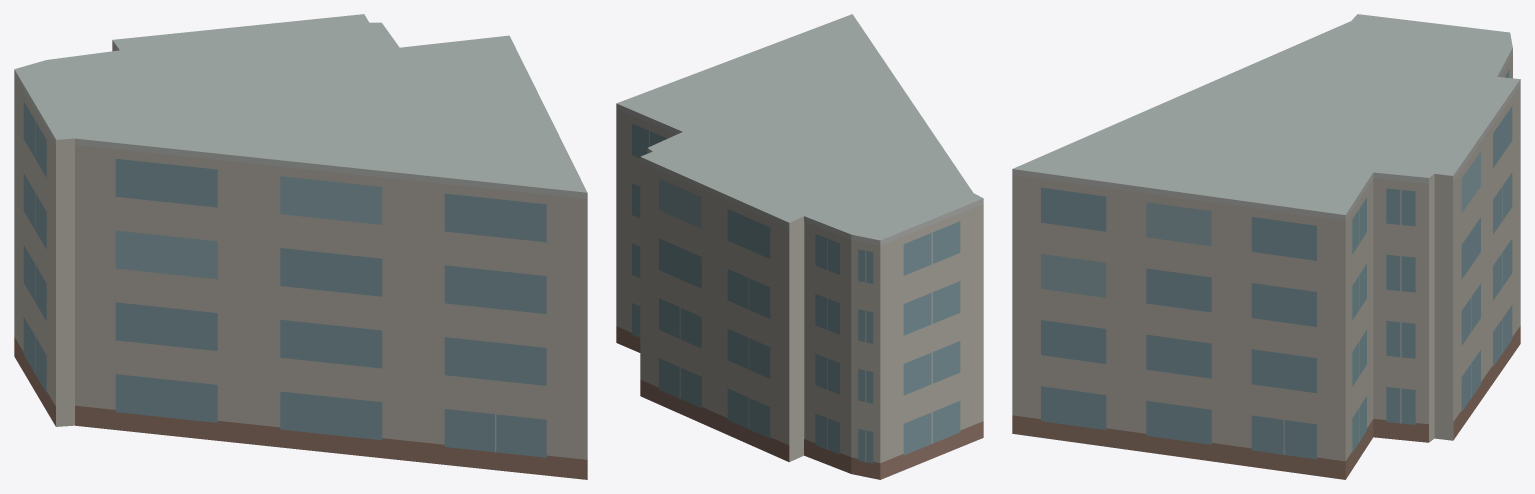
File: survey-upis-32659069.glb
The picture shows the model from 3 angles, left to right: view 1: azimuth 30°, elevation 25°; view 2: azimuth 150°, elevation 25°; view 3: azimuth 270°, elevation 25°; orthographic projection. The views are drawn at different scales.
Visible parts, largest first — view 1: survey-upis-32659069.tmp; view 2: survey-upis-32659069.tmp; view 3: survey-upis-32659069.tmp.
Part boxes in pixels (bbox=[...]): survey-upis-32659069.tmp: bbox=[14, 14, 587, 479]; survey-upis-32659069.tmp: bbox=[616, 14, 983, 479]; survey-upis-32659069.tmp: bbox=[1012, 14, 1520, 479].
Bounding box in the file's own units: 18.24 × 11.19 × 19.47.
